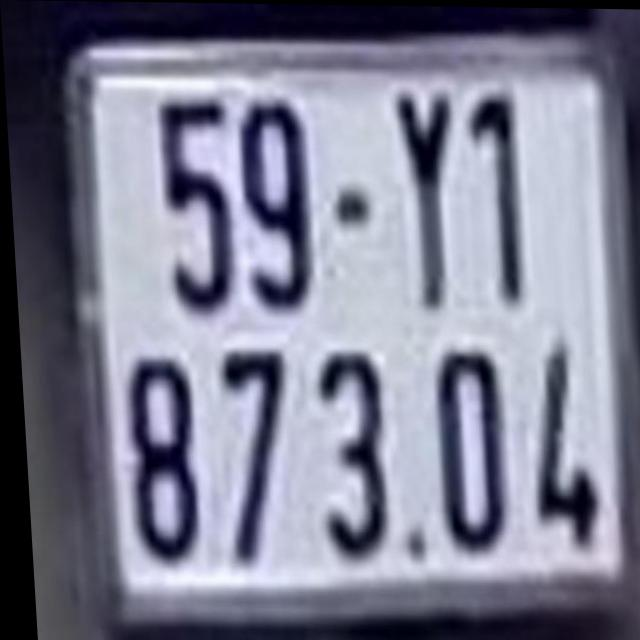0: (427, 345, 506, 549)
1: (465, 95, 527, 307)
3: (308, 347, 393, 562)
4: (521, 341, 604, 545)
5: (154, 98, 234, 305)
7: (212, 347, 297, 571)
8: (125, 357, 201, 561)
9: (230, 97, 314, 312)
Y: (392, 81, 461, 307)
